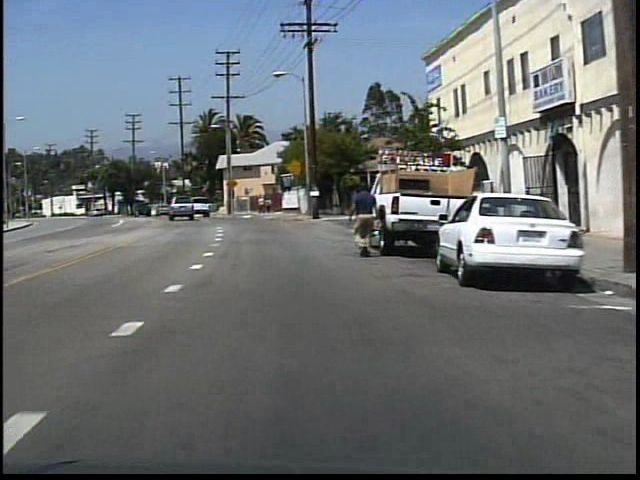person: (345, 182, 386, 259), (256, 194, 266, 216), (264, 197, 275, 215)
